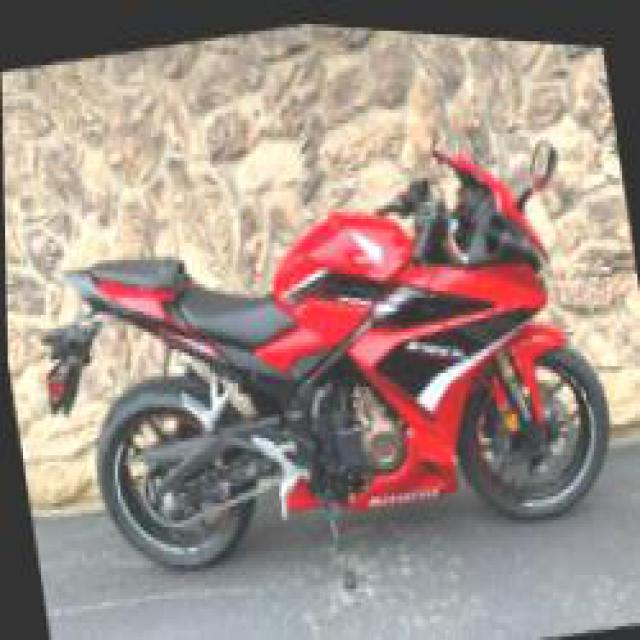CBR500R: (43, 94, 620, 621)
